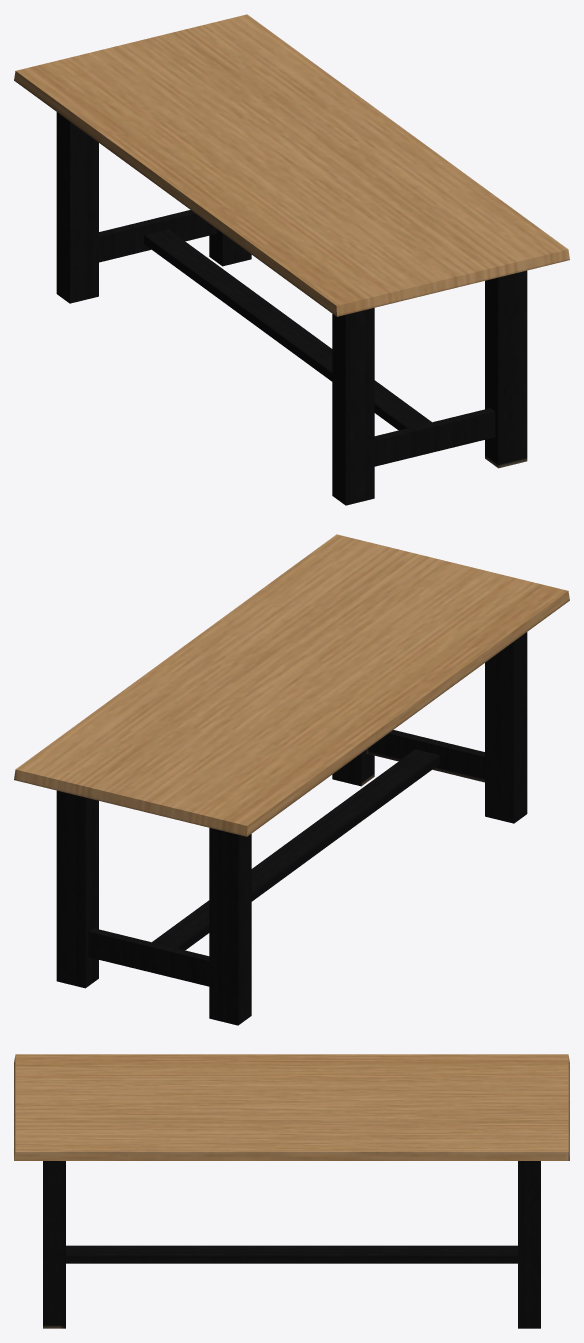
The model's file is table.glb.
3 views of the same model, one above another, from view 1: azimuth 30°, elevation 25°; view 2: azimuth 150°, elevation 25°; view 3: azimuth 270°, elevation 25° (orthographic). The views are drawn at different scales.
Visible parts, largest first — view 1: Raw_geometry_0.001, Raw_geometry_0; view 2: Raw_geometry_0.001, Raw_geometry_0; view 3: Raw_geometry_0.001, Raw_geometry_0.
Boxes of the visible parts, <box> form: Raw_geometry_0.001: <box>14,14,569,505</box>; Raw_geometry_0: <box>99,210,495,466</box>; Raw_geometry_0.001: <box>14,534,569,1025</box>; Raw_geometry_0: <box>88,730,484,986</box>; Raw_geometry_0.001: <box>14,1054,569,1328</box>; Raw_geometry_0: <box>66,1245,517,1263</box>.
Bounding box in the file's own units: 0.8325 × 0.7423 × 2.
Materials: 1 (1 with a texture image).
